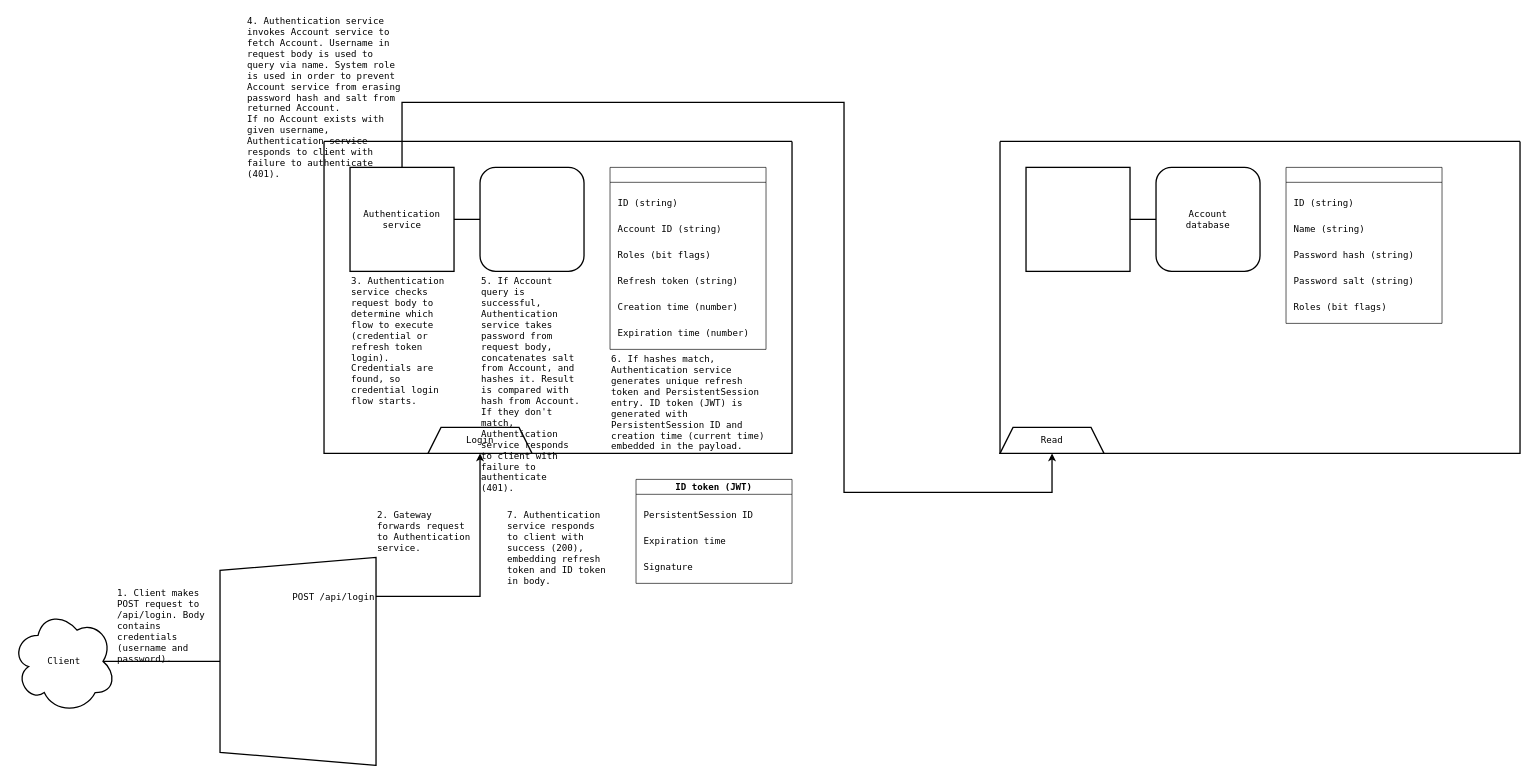
Image size: 1531x777. Some labels were removed from this diagram. The box of each missing label's shape, as (x1, y1, x2, y2) in pixels:
Account: (1285, 167, 1442, 323)
Account service: (1025, 166, 1130, 272)
PersistentSession: (609, 167, 766, 349)
PersistentSession database: (479, 166, 584, 272)
